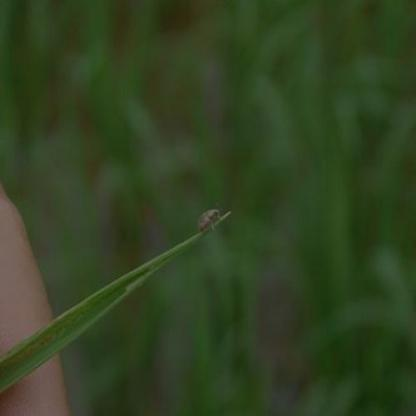rice-bug: (200, 204, 225, 234)
